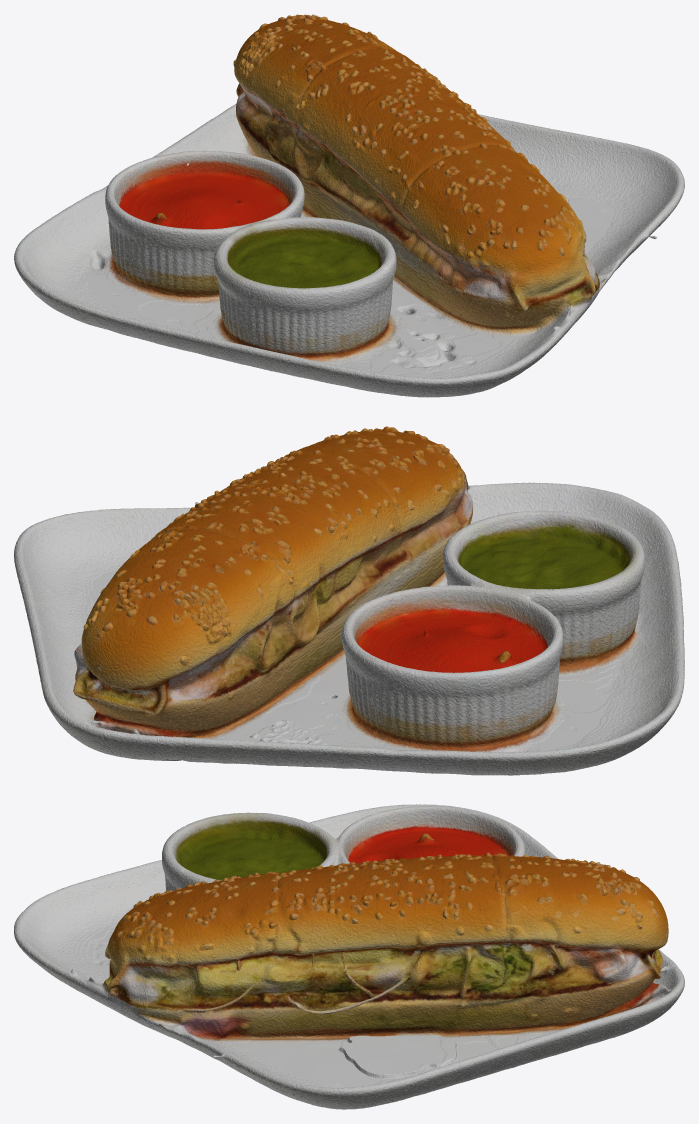
Rendered from shaami_burger.glb.
The picture shows the model from 3 angles, top to bottom: view 1: azimuth 30°, elevation 25°; view 2: azimuth 150°, elevation 25°; view 3: azimuth 270°, elevation 25°; orthographic projection. The views are drawn at different scales.
Visible parts, largest first — view 1: tripo_node_e7c7ece5-41a3-473d-af55-314b6192e815; view 2: tripo_node_e7c7ece5-41a3-473d-af55-314b6192e815; view 3: tripo_node_e7c7ece5-41a3-473d-af55-314b6192e815.
Part boxes in pixels (x1=…): tripo_node_e7c7ece5-41a3-473d-af55-314b6192e815: x1=14, y1=14, x2=684, y2=397; tripo_node_e7c7ece5-41a3-473d-af55-314b6192e815: x1=14, y1=426, x2=684, y2=775; tripo_node_e7c7ece5-41a3-473d-af55-314b6192e815: x1=14, y1=804, x2=684, y2=1109.
Bounding box in the file's own units: 0.9987 × 0.2454 × 0.9806.
Materials: 1 (1 with a texture image).
